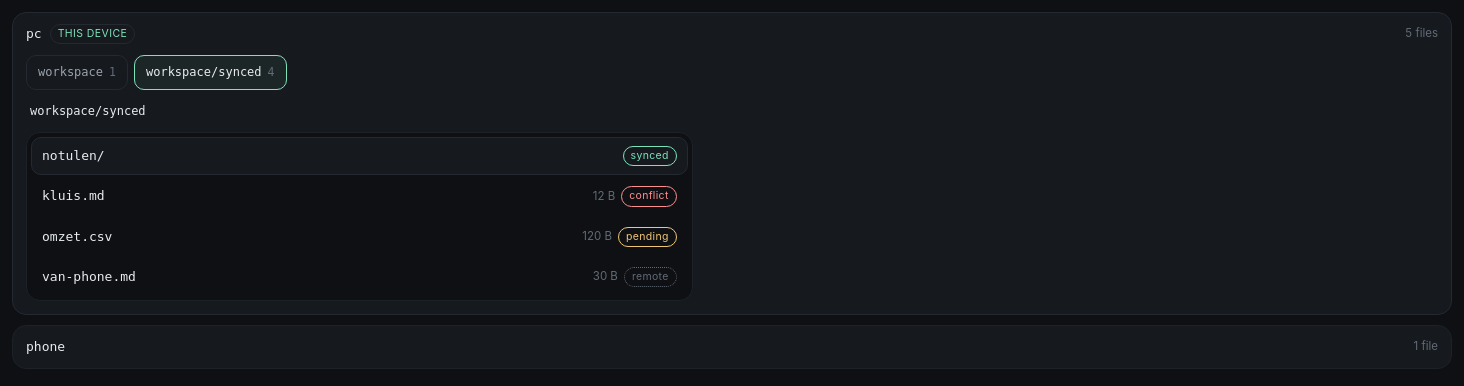
Test case: FileExplorer › opens a folder and walks back up the breadcrumb
Click the button "notulen/ synced" at (73, 156), box [31, 137, 688, 175]
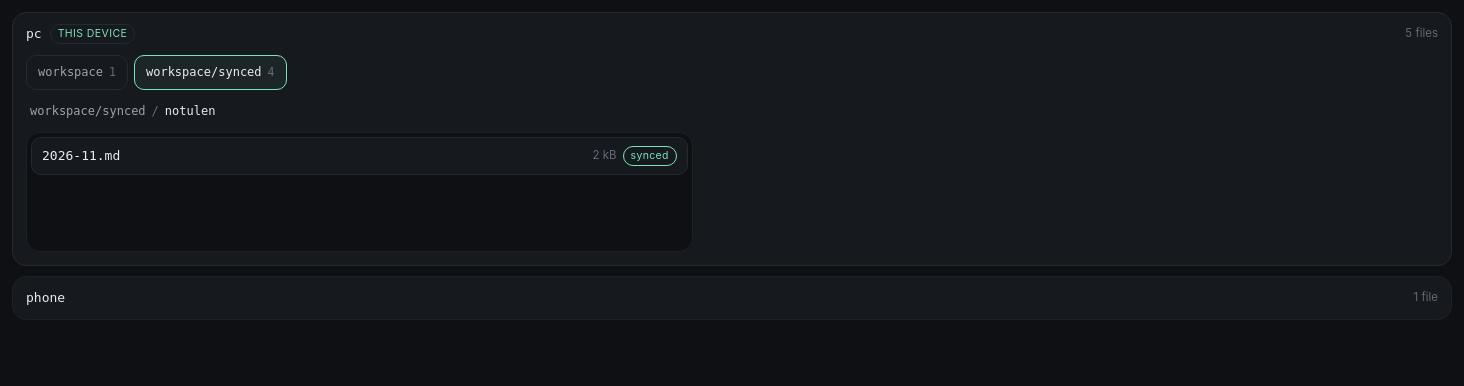
expect the text "2026-11.md" is shown: met, box [42, 146, 120, 166]
expect the text "2 kB" is shown: met, box [592, 147, 617, 165]
expect the text "omzet.csv" is gone: met
Click the button with class "explorer__crumbstep" showing "workspace/synced" at (88, 111), box [26, 99, 150, 123]
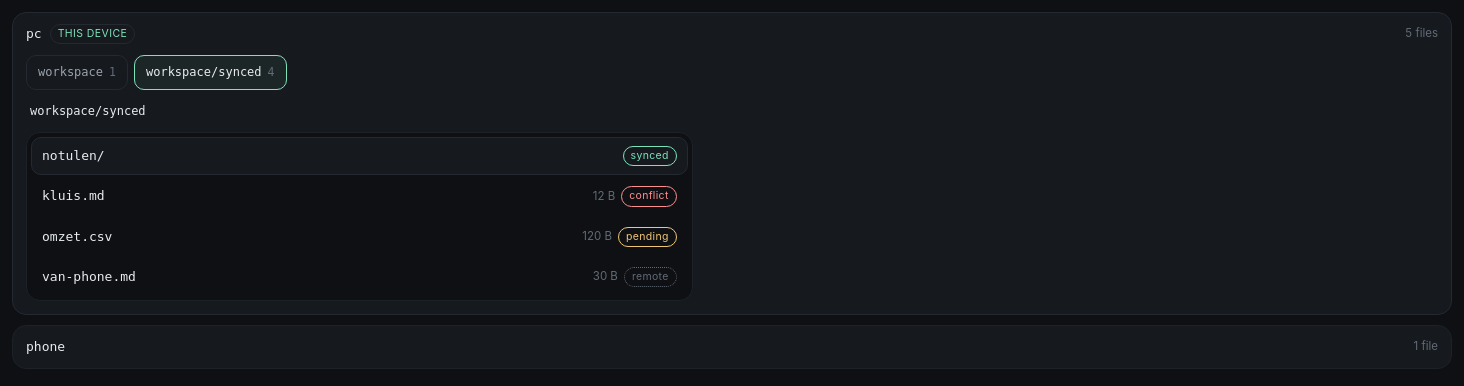
expect the text "omzet.csv" is shown: met, box [42, 227, 112, 247]
expect the text "2026-11.md" is gone: met
